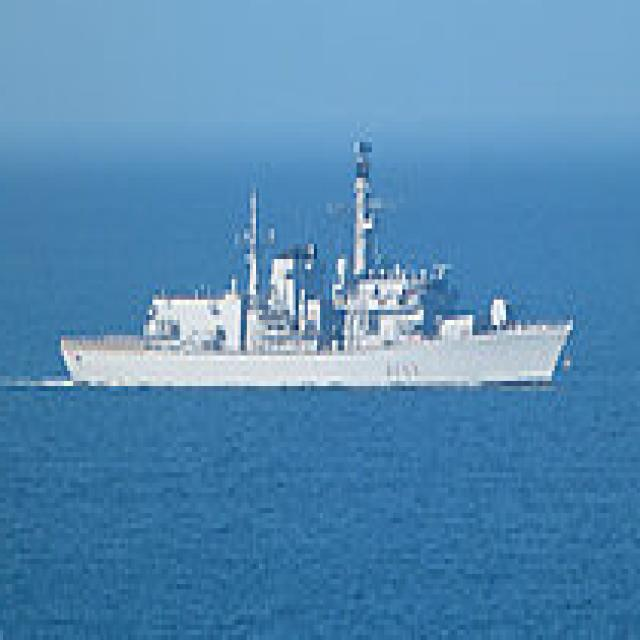Warship: (61, 127, 579, 386)
